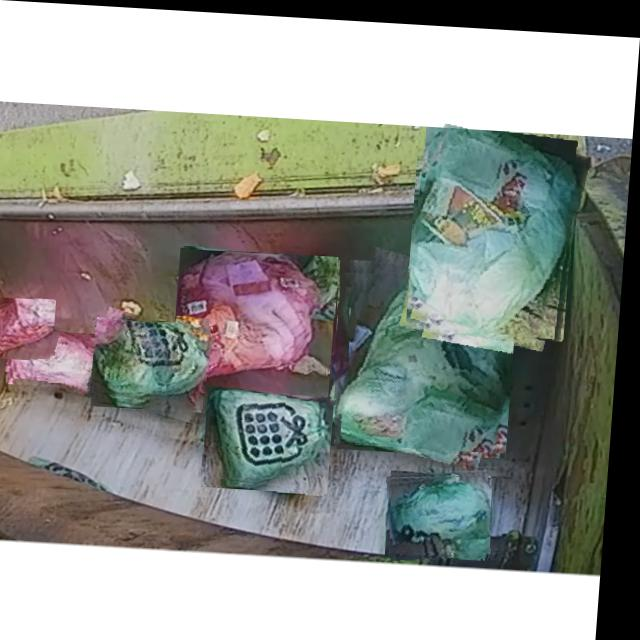general_trashbag: (413, 123, 580, 329), (339, 266, 518, 441), (215, 387, 337, 481), (98, 320, 214, 399), (397, 470, 498, 551)
other_trashbag: (180, 249, 331, 387), (18, 329, 112, 392), (0, 300, 58, 356)
